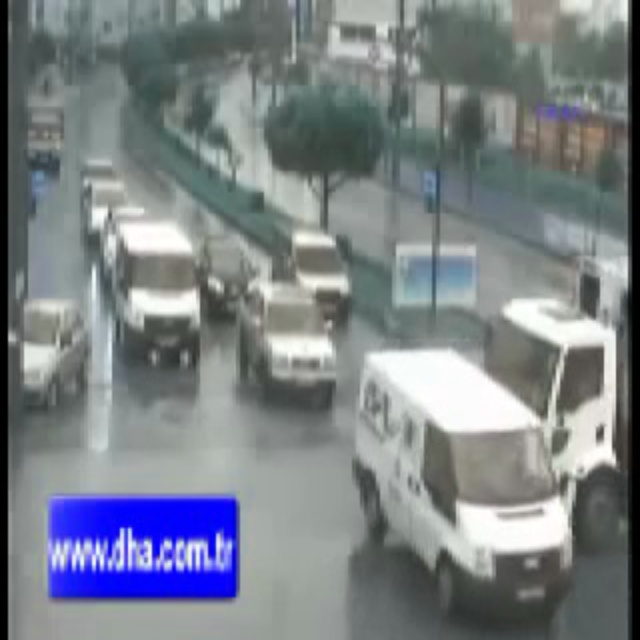acc: (356, 272, 631, 614)
